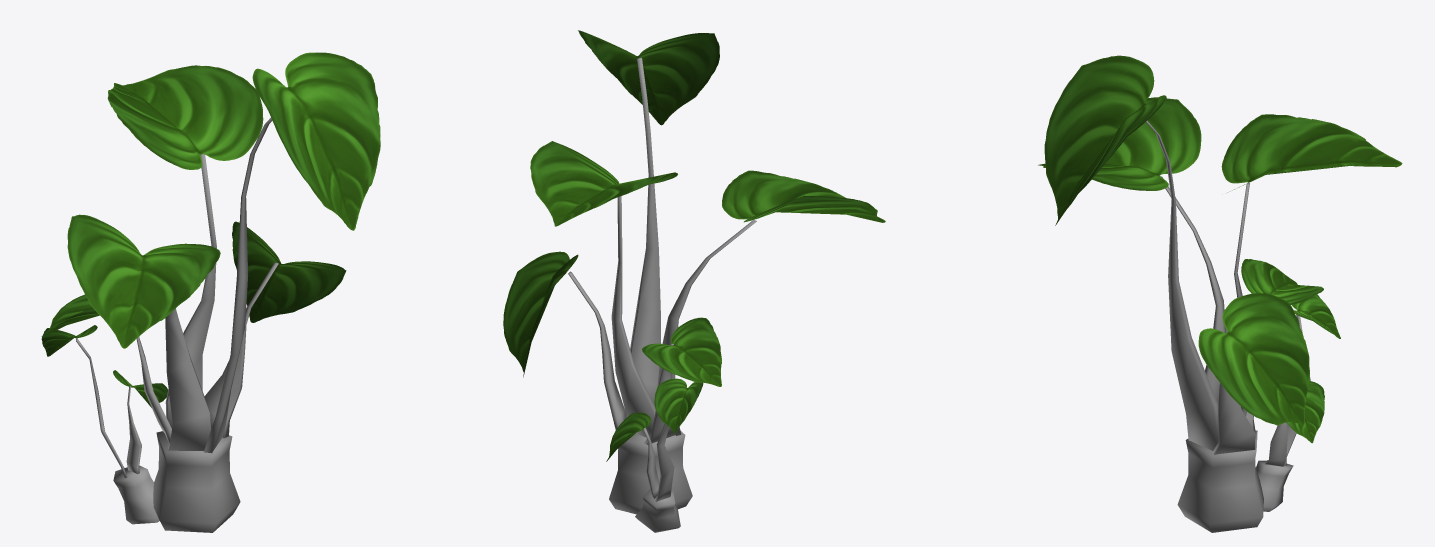
File: Environment_Mesh_Bush3.FBX
3 renders of one model, left to right at view 1: azimuth 30°, elevation 25°; view 2: azimuth 150°, elevation 25°; view 3: azimuth 270°, elevation 25°, orthographic. The views are drawn at different scales.
Visible parts, largest first — view 1: dawrfPlant2; view 2: dawrfPlant2; view 3: dawrfPlant2.
Part boxes in pixels (box(x1,y1,x2,y2)): dawrfPlant2: box(41, 52, 380, 532); dawrfPlant2: box(503, 30, 885, 532); dawrfPlant2: box(1038, 55, 1402, 532).
Bounding box in the file's own units: 120 × 143 × 118.
